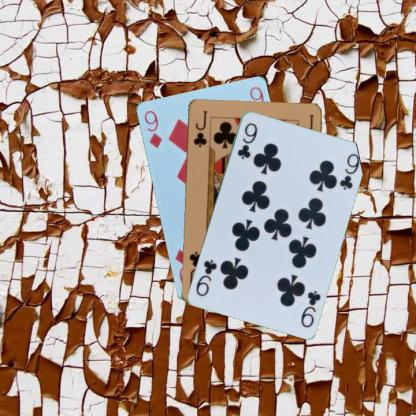9c: (298, 287, 322, 329), (234, 120, 259, 160)
9d: (141, 108, 163, 150)
Jc: (191, 107, 208, 148)
